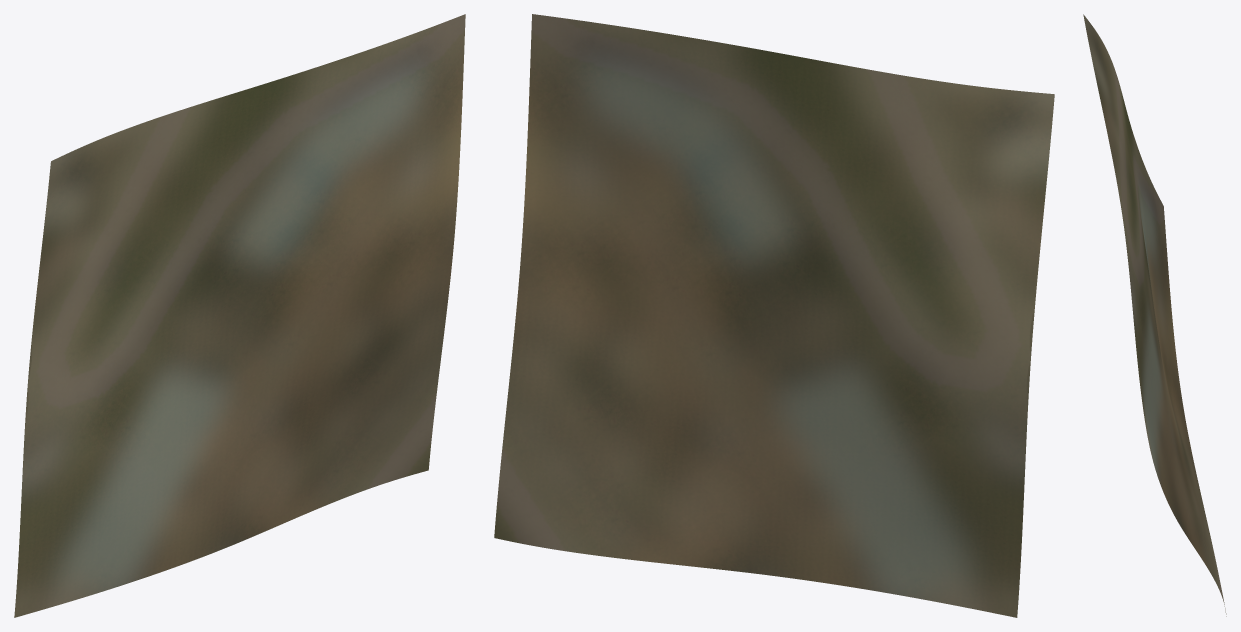
Rendered from ground_core_00_01.obj.
The picture shows the model from 3 angles, left to right: view 1: azimuth 30°, elevation 25°; view 2: azimuth 150°, elevation 25°; view 3: azimuth 270°, elevation 25°; orthographic projection. The views are drawn at different scales.
Parts seen in each view (by area): view 1: ground_core_00_01; view 2: ground_core_00_01; view 3: ground_core_00_01.
Part boxes in pixels (x1,y1,x2,y2): ground_core_00_01: (14,14,465,617); ground_core_00_01: (494,14,1054,617); ground_core_00_01: (1083,14,1226,616).
Size of the model in its own units: 50 by 50 by 15.78.
1 material, 1 textured.
